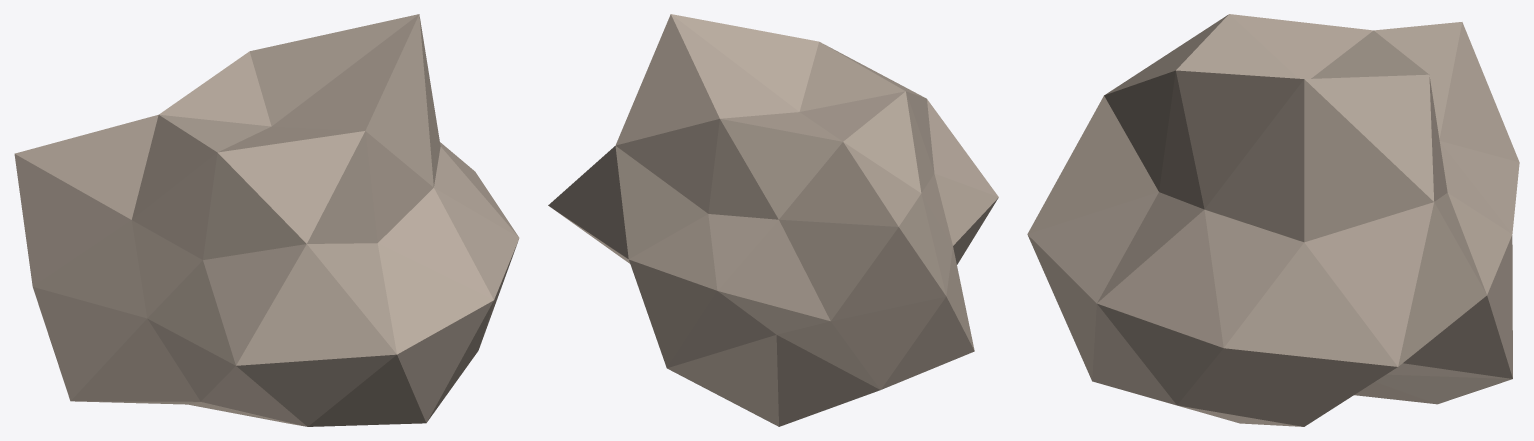
The model's file is Asteroid_Small.fbx.
3 renders of one model, left to right at view 1: azimuth 30°, elevation 25°; view 2: azimuth 150°, elevation 25°; view 3: azimuth 270°, elevation 25°, orthographic. The views are drawn at different scales.
Parts seen in each view (by area): view 1: Asteroid_Small; view 2: Asteroid_Small; view 3: Asteroid_Small.
Part boxes in pixels (<box>): Asteroid_Small: <box>14,14,519,426</box>; Asteroid_Small: <box>548,14,998,426</box>; Asteroid_Small: <box>1027,14,1519,426</box>.
Bounding box in the file's own units: 2.26 × 1.85 × 1.94.
